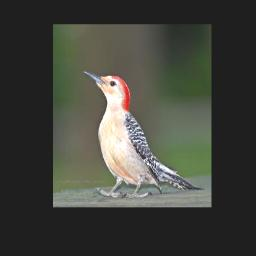Woodpecker: (81, 68, 205, 199)
